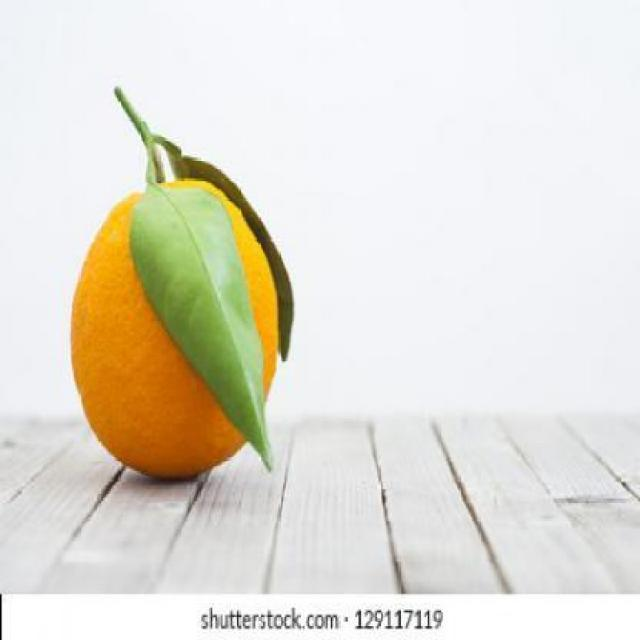Jeruk Sudah Matang: (67, 82, 296, 478)
